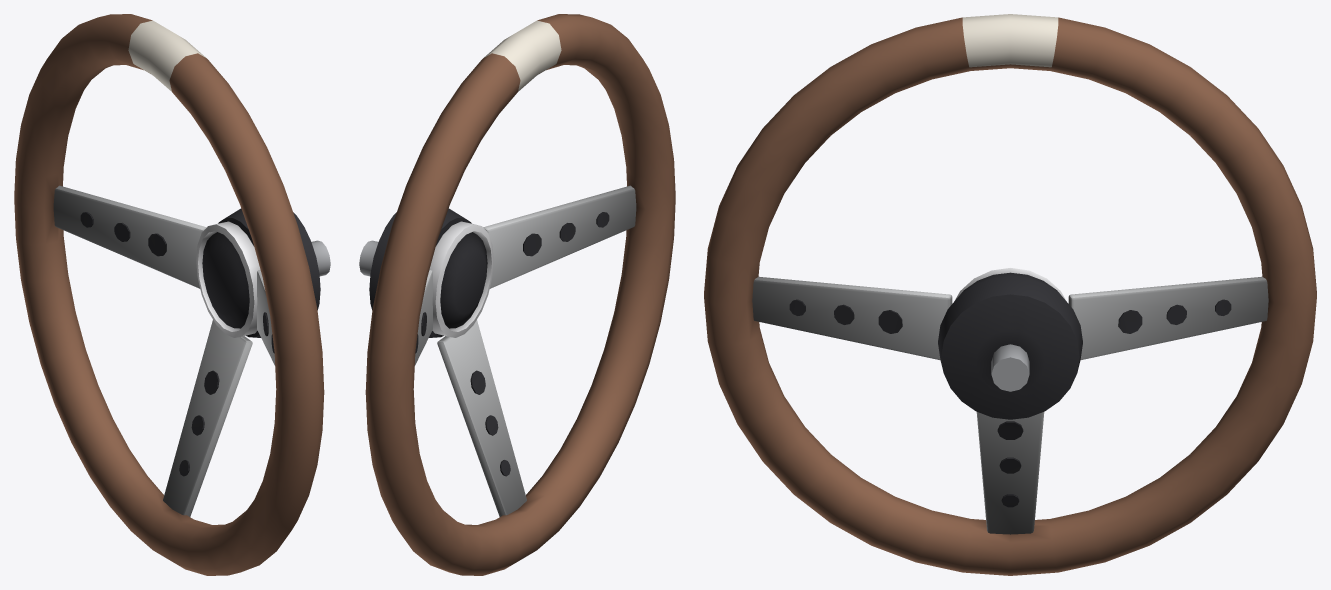
The model's file is steer_sport.glb.
The picture shows the model from 3 angles, left to right: view 1: azimuth 30°, elevation 25°; view 2: azimuth 150°, elevation 25°; view 3: azimuth 270°, elevation 25°; orthographic projection. The views are drawn at different scales.
Parts seen in each view (by area): view 1: PART; view 2: PART; view 3: PART.
Boxes of the visible parts, <box> form: PART: <box>14,14,330,575</box>; PART: <box>359,14,675,575</box>; PART: <box>704,14,1316,575</box>.
Size of the model in its own units: 0.1235 by 0.3544 by 0.3544.
